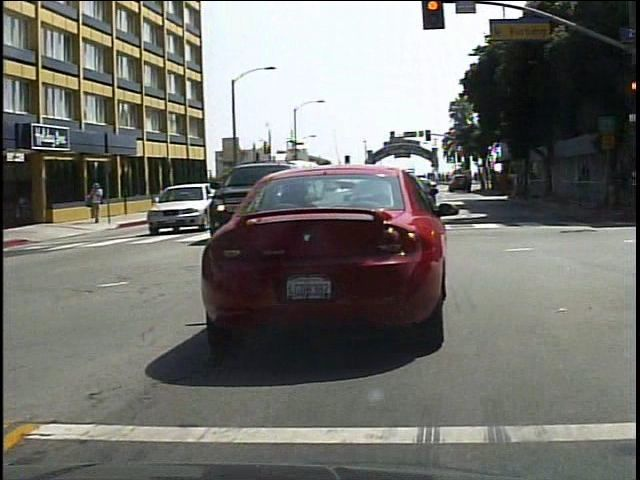person: (87, 178, 109, 226)
